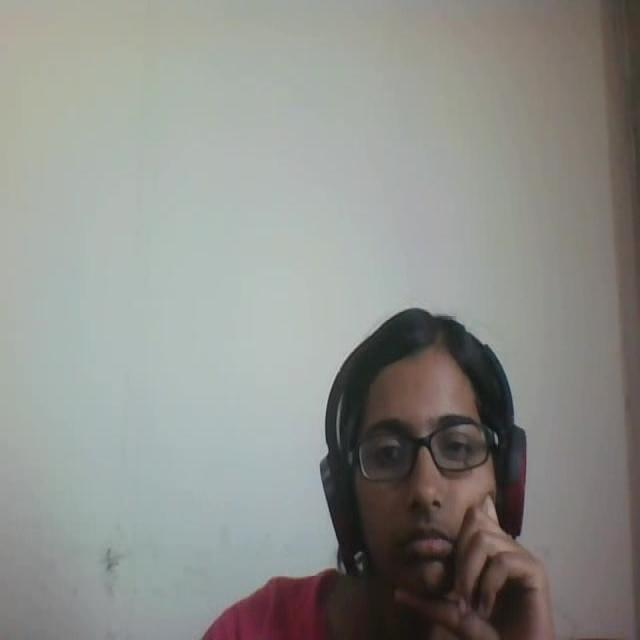Bored: (302, 300, 543, 640)
